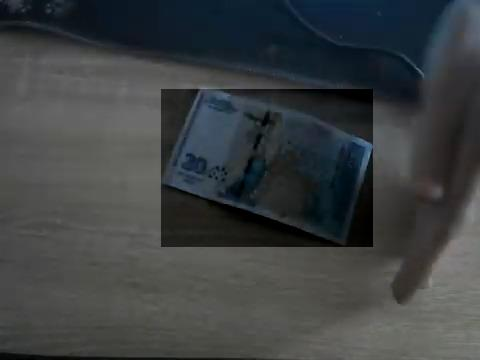20leva: (161, 89, 373, 247)
